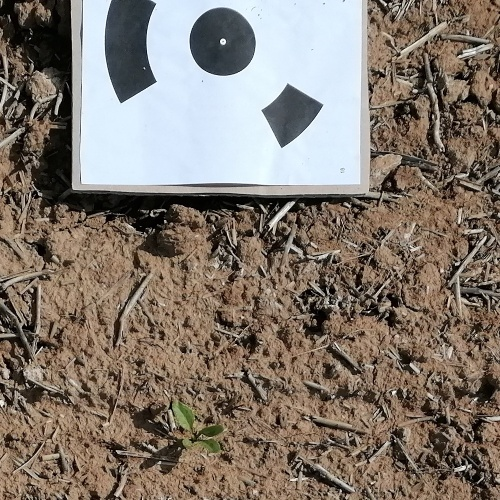beet: (170, 397, 226, 455)
